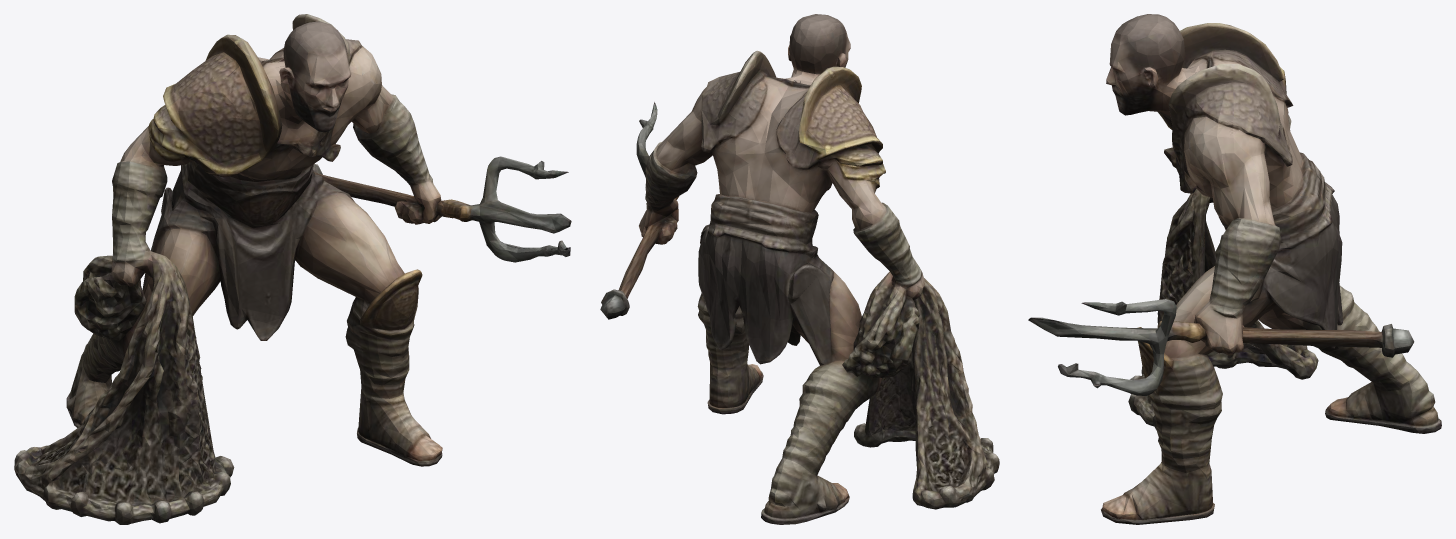
The model's file is netFighter.glb.
3 renders of one model, left to right at view 1: azimuth 30°, elevation 25°; view 2: azimuth 150°, elevation 25°; view 3: azimuth 270°, elevation 25°, orthographic. The views are drawn at different scales.
Parts seen in each view (by area): view 1: world; view 2: world; view 3: world.
Part boxes in pixels (x1,y1,x2,y2): world: [14, 14, 571, 524]; world: [600, 14, 999, 524]; world: [1028, 14, 1441, 524].
Size of the model in its own units: 0.9872 by 0.9434 by 0.7699.
Materials: 1 (1 with a texture image).
